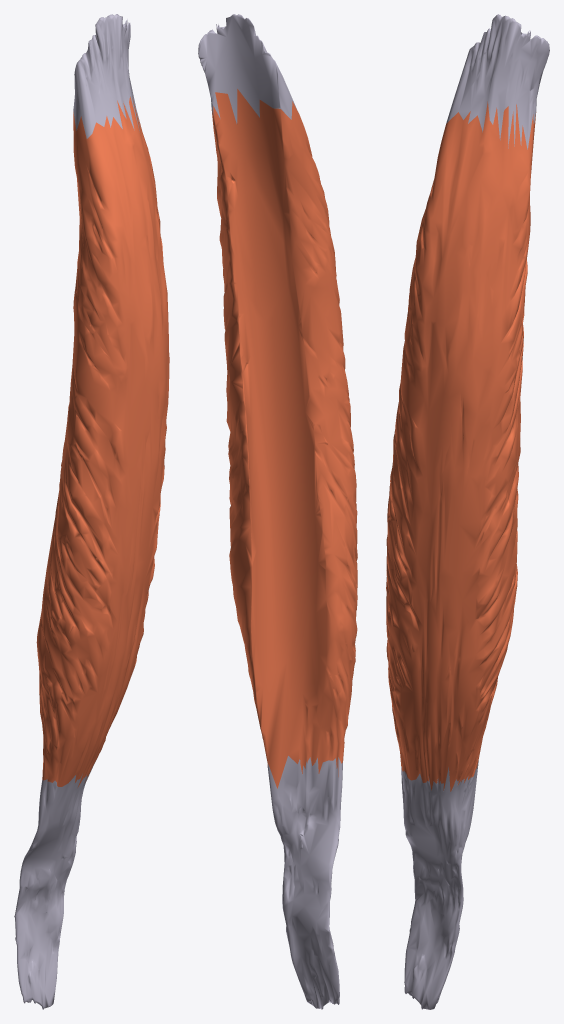
Rendered from Vastus_intermedius_left.glb.
3 renders of one model, left to right at view 1: azimuth 30°, elevation 25°; view 2: azimuth 150°, elevation 25°; view 3: azimuth 330°, elevation 25°, orthographic. The views are drawn at different scales.
Visible parts, largest first — view 1: Vastus_intermedius_muscle.l_Generated_Mesh_From_X3D.129; view 2: Vastus_intermedius_muscle.l_Generated_Mesh_From_X3D.129; view 3: Vastus_intermedius_muscle.l_Generated_Mesh_From_X3D.129.
Boxes of the visible parts, box(x1,y1,x2,y2) form: Vastus_intermedius_muscle.l_Generated_Mesh_From_X3D.129: box(14, 14, 169, 1009); Vastus_intermedius_muscle.l_Generated_Mesh_From_X3D.129: box(198, 14, 357, 1009); Vastus_intermedius_muscle.l_Generated_Mesh_From_X3D.129: box(386, 14, 549, 1009).
Size of the model in its own units: 0.0566 by 0.4085 by 0.0478.
